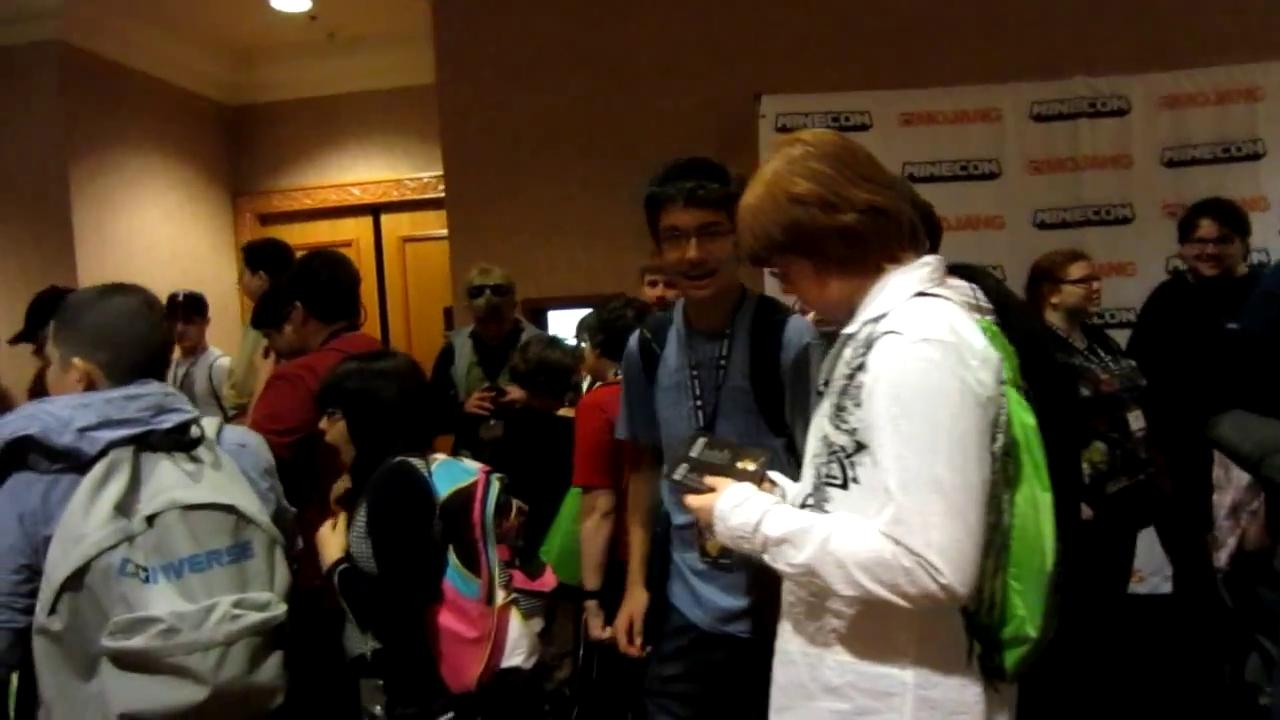victim: (682, 126, 1062, 718), (612, 152, 846, 719), (68, 272, 303, 716), (1119, 183, 1280, 720), (998, 241, 1160, 716), (252, 274, 422, 718), (311, 346, 502, 720), (419, 256, 571, 719), (567, 287, 657, 720), (150, 282, 260, 432)
